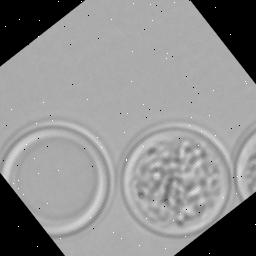picoshell: (118, 118, 234, 235), (0, 117, 114, 235), (234, 122, 256, 199)
